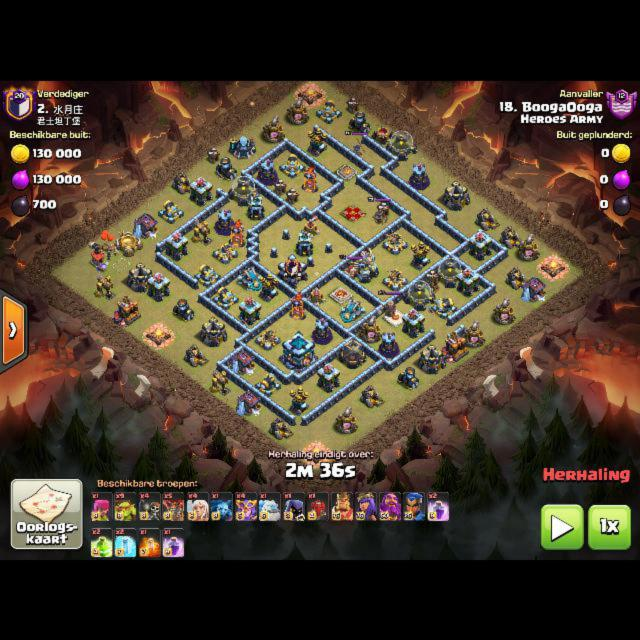AD: (410, 240, 430, 270), (258, 272, 278, 302), (289, 386, 309, 415), (307, 127, 327, 156)
AirSweeper: (301, 214, 319, 238), (307, 286, 326, 306)
BombTower: (296, 229, 312, 256), (248, 193, 264, 219)
Canon: (315, 98, 342, 122), (279, 153, 306, 177), (157, 198, 183, 222), (255, 373, 282, 396), (194, 263, 221, 286), (212, 286, 239, 309), (431, 296, 458, 318)
ClanCastle: (278, 253, 307, 288)
Eagle: (350, 248, 379, 283)
Inferno: (289, 292, 306, 319), (229, 219, 245, 247), (302, 165, 319, 191)
KingPad: (329, 286, 352, 303)
Mortar: (215, 156, 238, 180), (172, 298, 195, 321), (348, 110, 370, 134), (397, 366, 419, 389)
QueenPad: (341, 203, 366, 221)
RcPad: (338, 164, 357, 178)
Scattershot: (237, 266, 263, 291), (341, 297, 366, 322)
TH13: (282, 330, 315, 371)
WardenPad: (385, 308, 406, 324)
WizzTower: (312, 317, 332, 344), (379, 331, 399, 358), (409, 162, 429, 189), (258, 158, 277, 185), (216, 208, 235, 235)
Xbow: (382, 268, 409, 291), (382, 231, 408, 254), (254, 328, 280, 350), (212, 242, 238, 263)
